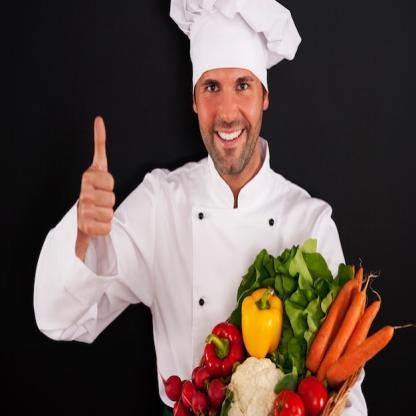thumb_up: (77, 112, 118, 240)
